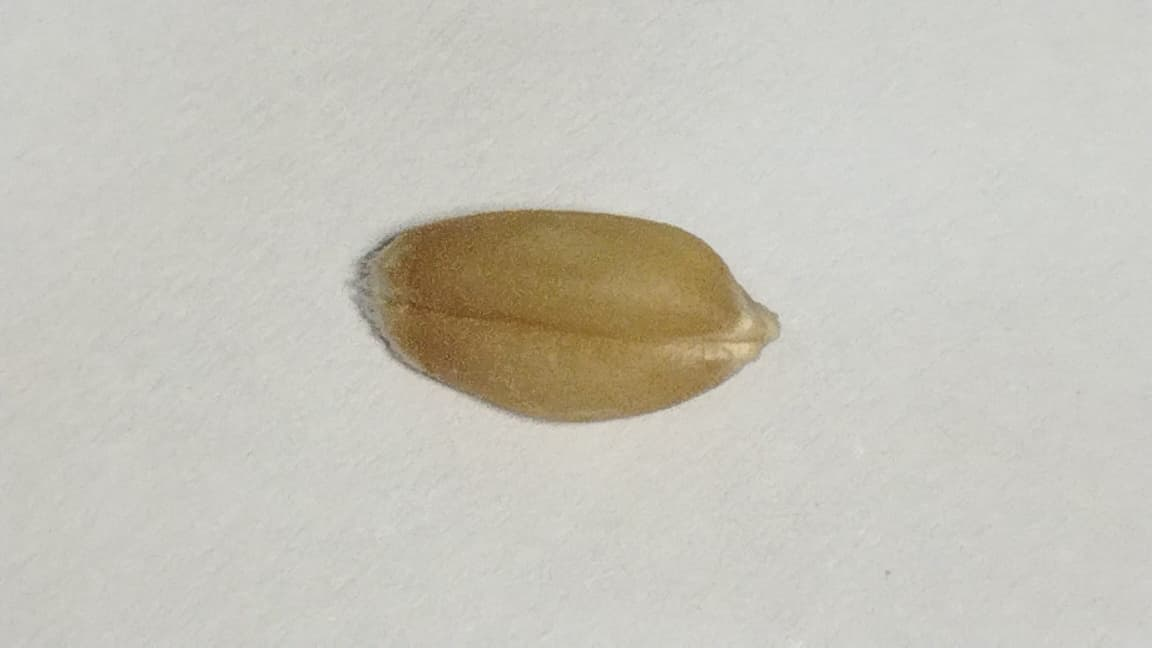healthy: (370, 210, 778, 418)
